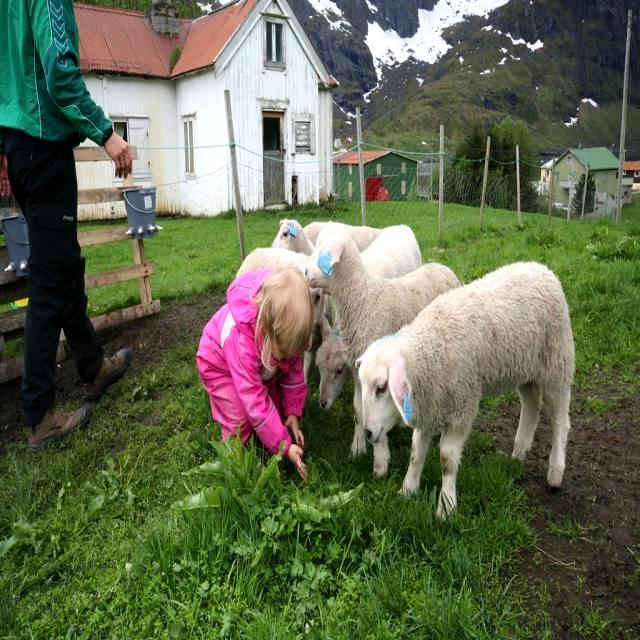sheep: (308, 223, 460, 365), (316, 226, 422, 409), (239, 245, 329, 327), (270, 220, 313, 255)
